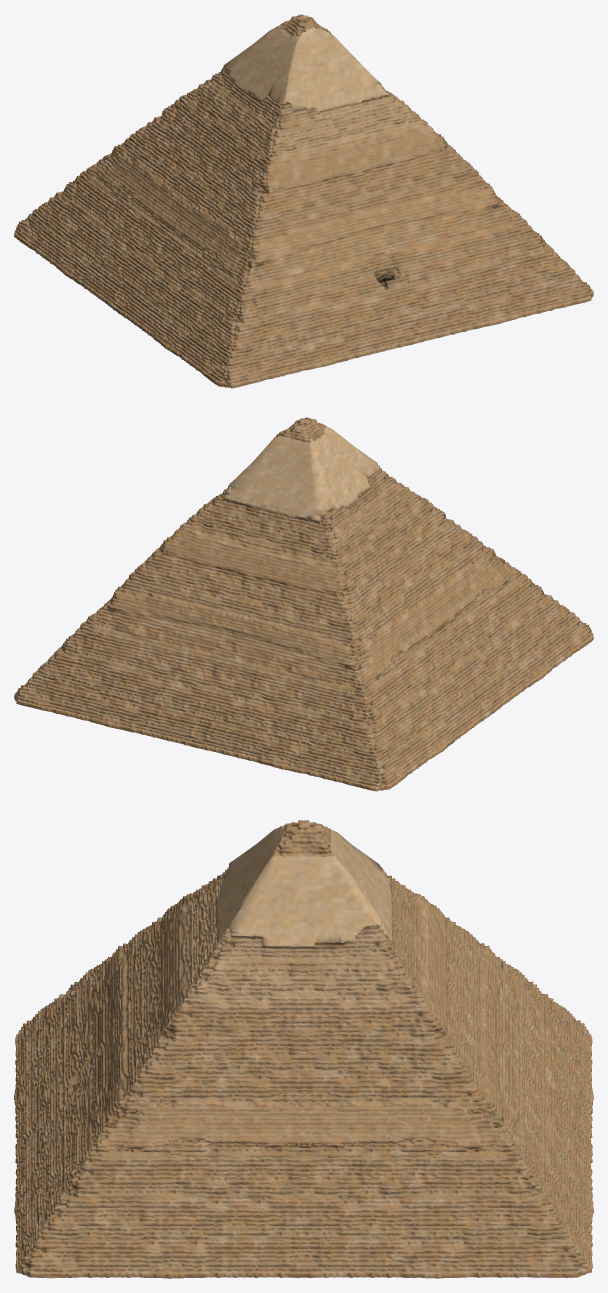
Rendered from 20250702_pyramyds_for_mb_pyramid2e.glb.
3 renders of one model, top to bottom at view 1: azimuth 30°, elevation 25°; view 2: azimuth 150°, elevation 25°; view 3: azimuth 270°, elevation 25°, orthographic. The views are drawn at different scales.
Parts seen in each view (by area): view 1: khafre; view 2: khafre; view 3: khafre.
Part boxes in pixels (bbox=[...]): khafre: bbox=[14, 14, 593, 388]; khafre: bbox=[14, 417, 593, 791]; khafre: bbox=[14, 820, 593, 1278].
Size of the model in its own units: 217 by 136 by 216.
1 material, 1 textured.
